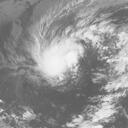cyclone: (40, 37, 85, 81)
